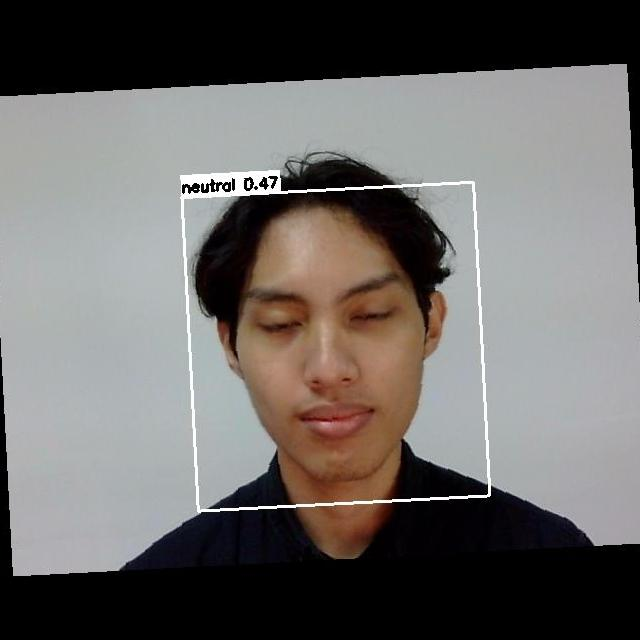Natural: (225, 254, 439, 448)
